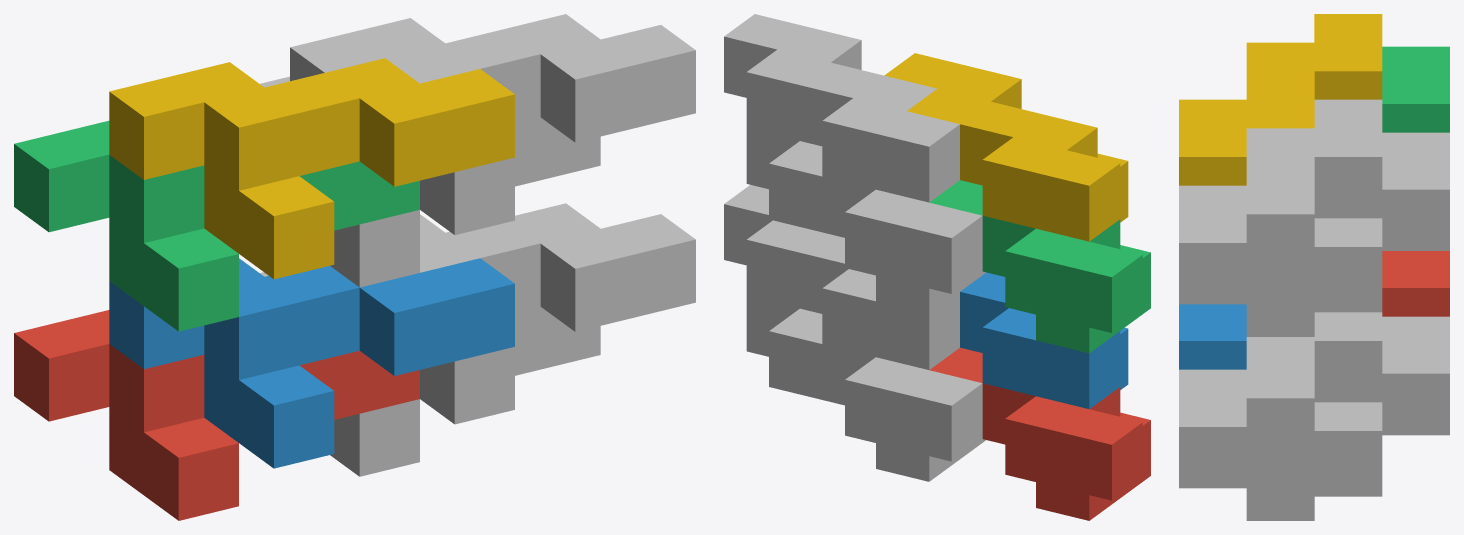
File: tiling.obj
The picture shows the model from 3 angles, left to right: view 1: azimuth 30°, elevation 25°; view 2: azimuth 150°, elevation 25°; view 3: azimuth 270°, elevation 25°; orthographic projection. The views are drawn at different scales.
Visible parts, largest first — view 1: copy_1_domain_4, copy_1_domain_2, copy_1_domain_8, copy_1_domain_1, copy_1_domain_3, copy_1_domain_6, copy_1_domain_7, copy_1_domain_5; view 2: copy_1_domain_8, copy_1_domain_4, copy_1_domain_7, copy_1_domain_5, copy_1_domain_6, copy_1_domain_1, copy_1_domain_3, copy_1_domain_2; view 3: copy_1_domain_8, copy_1_domain_6, copy_1_domain_5, copy_1_domain_7, copy_1_domain_4, copy_1_domain_3, copy_1_domain_1, copy_1_domain_2.
Part boxes in pixels (x1,y1,x2,y2): copy_1_domain_4: (109,58,514,279); copy_1_domain_2: (109,258,514,468); copy_1_domain_8: (290,14,695,234); copy_1_domain_1: (14,310,419,520); copy_1_domain_3: (14,120,419,331); copy_1_domain_6: (420,203,695,424); copy_1_domain_7: (260,76,600,287); copy_1_domain_5: (260,272,600,476); copy_1_domain_8: (724,14,959,202); copy_1_domain_4: (884,53,1128,241); copy_1_domain_7: (746,128,985,314); copy_1_domain_5: (746,295,985,481); copy_1_domain_6: (724,185,959,369); copy_1_domain_1: (929,347,1150,520); copy_1_domain_3: (929,180,1150,353); copy_1_domain_2: (960,272,1128,409); copy_1_domain_8: (1179,99,1382,304); copy_1_domain_6: (1179,312,1382,488); copy_1_domain_5: (1246,316,1449,520); copy_1_domain_7: (1246,132,1449,336); copy_1_domain_4: (1179,14,1382,185); copy_1_domain_3: (1382,46,1449,132); copy_1_domain_1: (1382,251,1449,316); copy_1_domain_2: (1179,304,1246,369).
Bounding box in the file's own units: 9 × 6 × 4.
